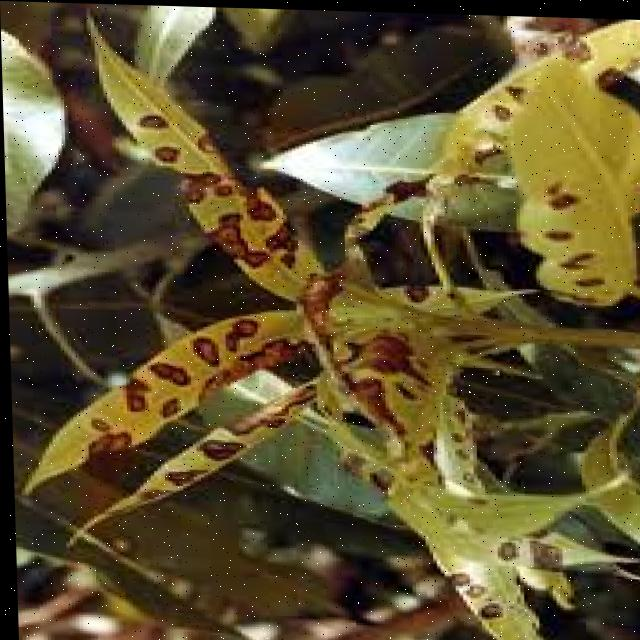Anthracnose: (12, 325, 392, 567), (68, 26, 343, 324), (486, 33, 640, 318), (432, 473, 610, 640)
